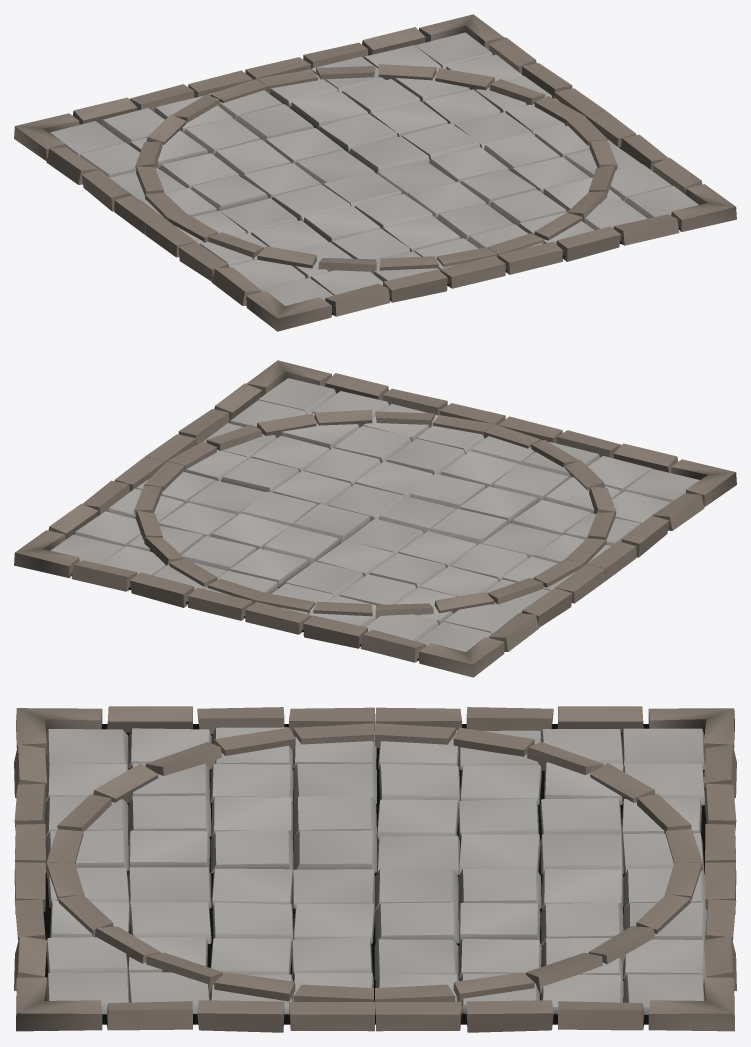
The model's file is floor_decoration_B_LOW.FBX.
The picture shows the model from 3 angles, top to bottom: view 1: azimuth 30°, elevation 25°; view 2: azimuth 150°, elevation 25°; view 3: azimuth 270°, elevation 25°; orthographic projection. The views are drawn at different scales.
Parts seen in each view (by area): view 1: floor_decoration_B_LOW; view 2: floor_decoration_B_LOW; view 3: floor_decoration_B_LOW.
Boxes of the visible parts, x1,y1,x2,y2 form: floor_decoration_B_LOW: (14,14,736,331); floor_decoration_B_LOW: (14,360,736,677); floor_decoration_B_LOW: (14,706,736,1032).
Size of the model in its own units: 4.09 by 0.1431 by 4.06.
